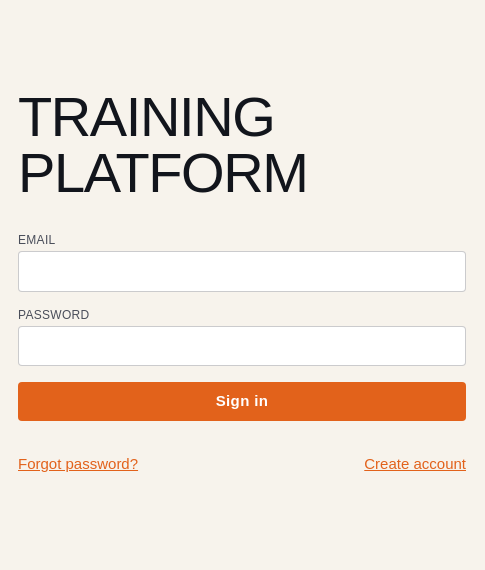
Test case: LoginPage › should surface a resend failure instead of falsely claiming success
In the field labelled "Email": [242, 271] box [18,251,466,292], type "parent@example.com"
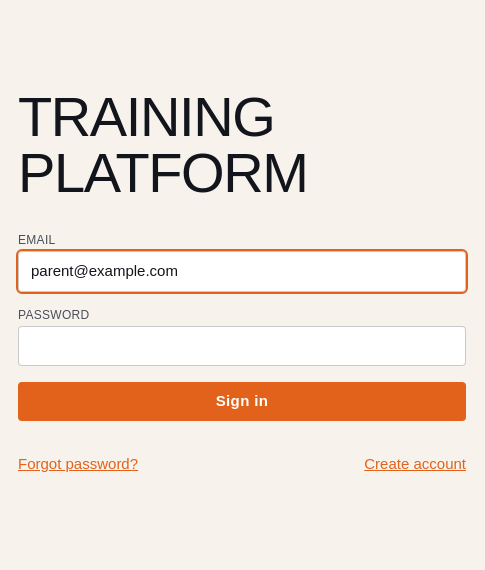
In the password field labelled "Password": [242, 346] box [18,326,466,366], type "Passw0rd!"
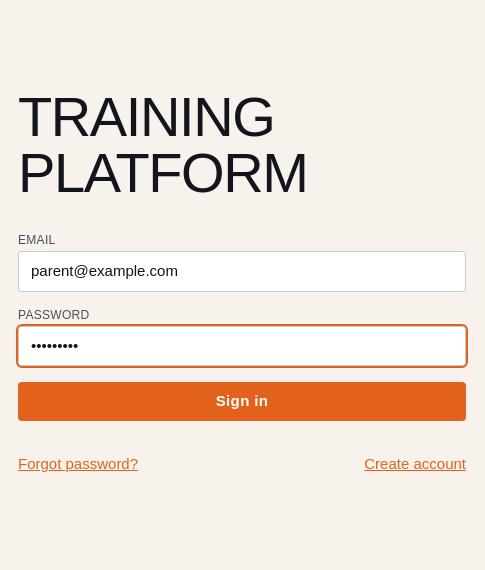
Click the button "Sign in": [242, 402] box [18,382,466,421]
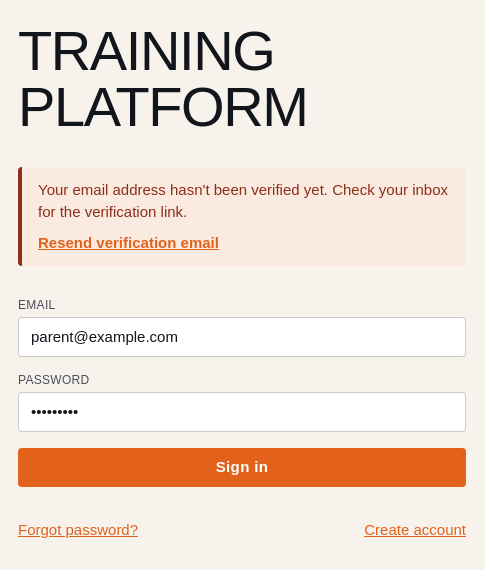
Click the button "Resend verification email": [128, 243] box [38,232,219,254]
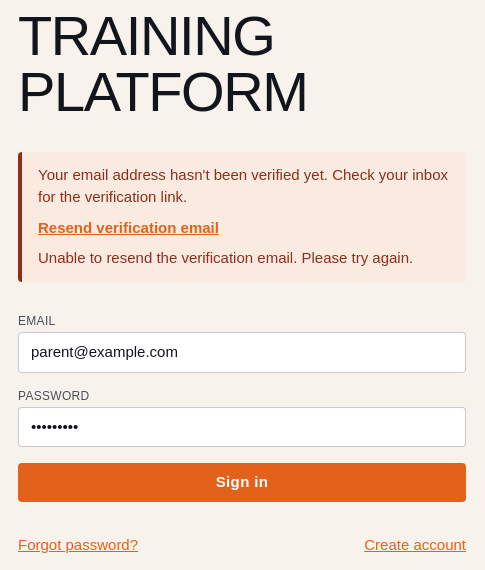
Check: the button "Resend verification email" is enabled, box [38,217,219,239]
Check: the text "Unable to resend the verification email. Please try again." is shown, box [38,247,450,270]
